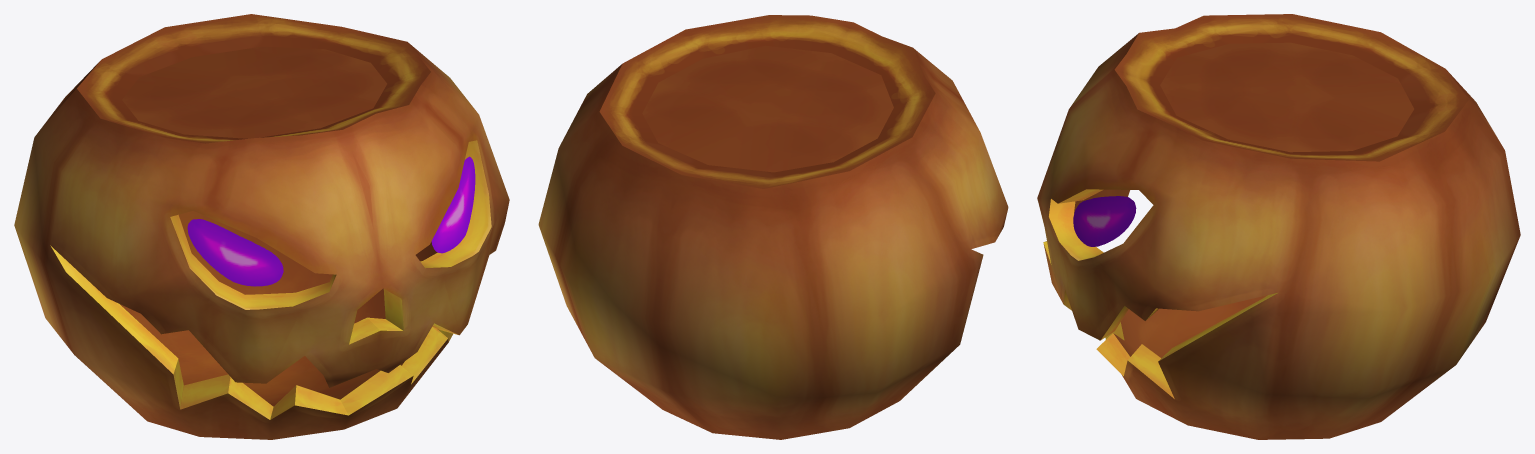
Rendered from nangua02_di.fbx.
The picture shows the model from 3 angles, left to right: view 1: azimuth 30°, elevation 25°; view 2: azimuth 150°, elevation 25°; view 3: azimuth 270°, elevation 25°; orthographic projection. The views are drawn at different scales.
Parts seen in each view (by area): view 1: pumpkin_zug_02; view 2: pumpkin_zug_02; view 3: pumpkin_zug_02.
Boxes of the visible parts, box(x1,y1,x2,y2) form: pumpkin_zug_02: box(14, 14, 509, 439); pumpkin_zug_02: box(538, 15, 1008, 439); pumpkin_zug_02: box(1037, 14, 1520, 439).
Size of the model in its own units: 3.8 by 2.82 by 3.76.
